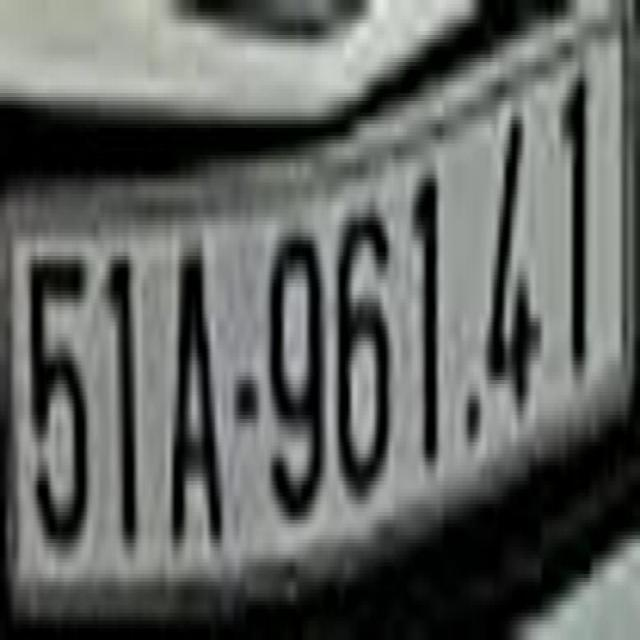1: (410, 151, 443, 473), (561, 39, 590, 392), (109, 225, 137, 539)
4: (487, 96, 531, 400)
5: (34, 236, 89, 544)
6: (340, 190, 390, 497)
9: (272, 221, 326, 504)
A: (170, 244, 222, 547)
